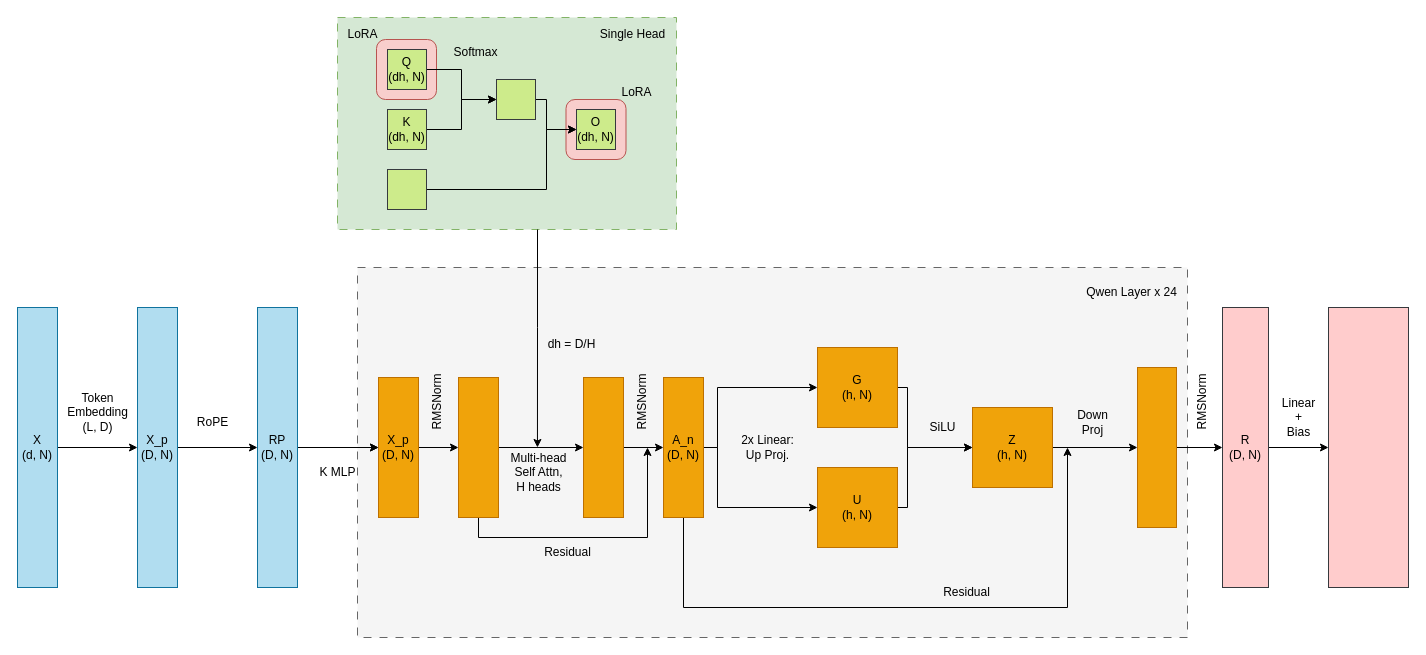
This 1426x655 diagram has some shape labels left out. Each missing label, with the centre of its shape:
A (D, N): the point at 603,447
O_p (D, N): the point at 1156,447
Out (L, N): the point at 1368,447
S (N, N): the point at 516,99
V (dh, N): the point at 406,189
X_n (D, N): the point at 478,447
